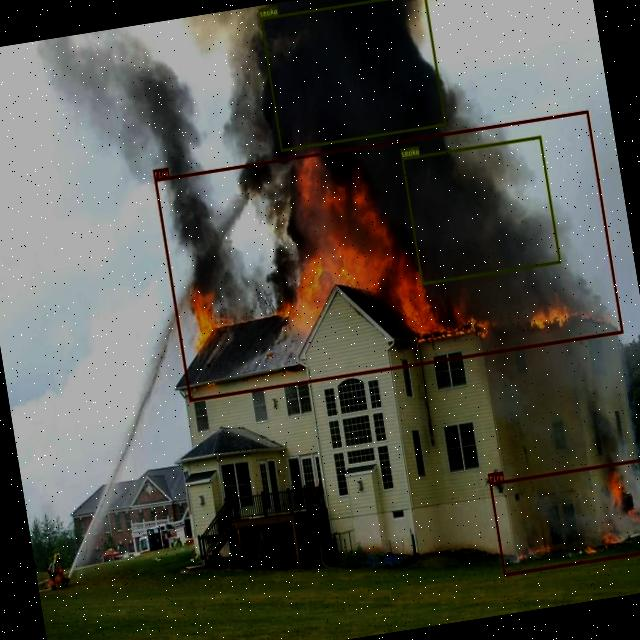fire: (154, 110, 623, 401), (489, 455, 640, 576)
smoke: (259, 0, 446, 152), (402, 136, 560, 284)
